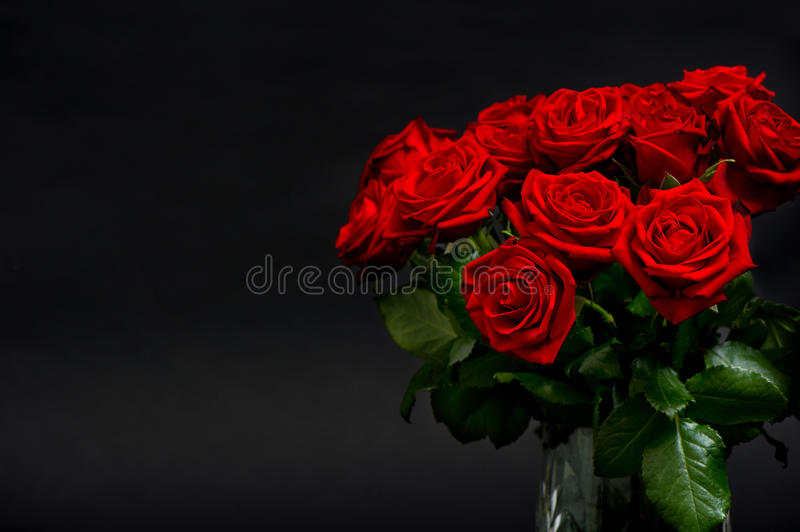RedRose: (631, 181, 760, 301), (480, 240, 574, 363), (518, 169, 626, 249), (542, 87, 639, 158), (629, 96, 714, 176), (475, 101, 567, 174), (417, 139, 502, 210), (723, 106, 800, 183), (683, 71, 786, 123), (344, 196, 419, 260), (370, 123, 441, 181)
